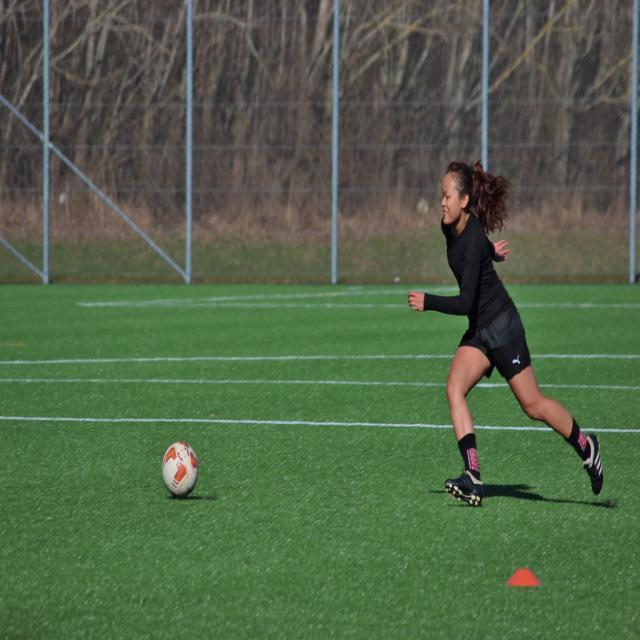ball: (162, 442, 199, 496)
